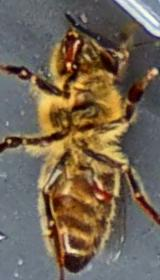varroa_mite: (84, 181, 118, 212)
